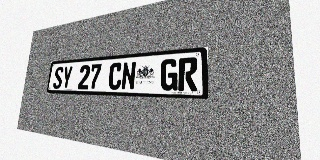2: (78, 65, 91, 89)
7: (88, 64, 102, 90)
C: (108, 62, 123, 90)
G: (160, 58, 178, 91)
N: (121, 61, 136, 90)
R: (178, 57, 198, 91)
S: (53, 66, 64, 89)
Y: (61, 66, 73, 89)
